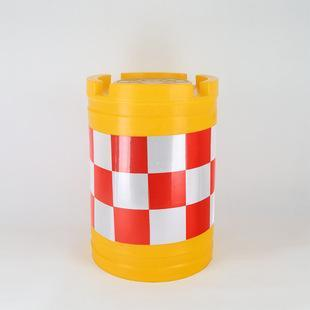sign: (76, 64, 220, 284)
